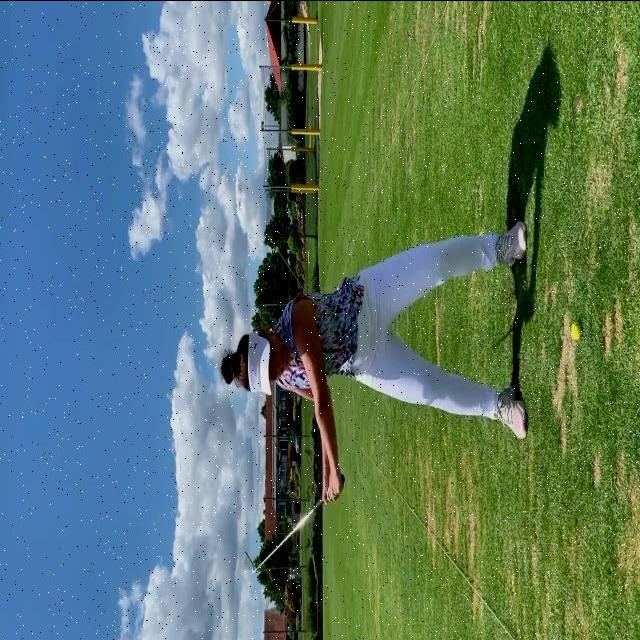ClubHandle: (241, 472, 345, 573)
ClubHead: (242, 550, 255, 572)
GolfBall: (572, 321, 581, 339)
